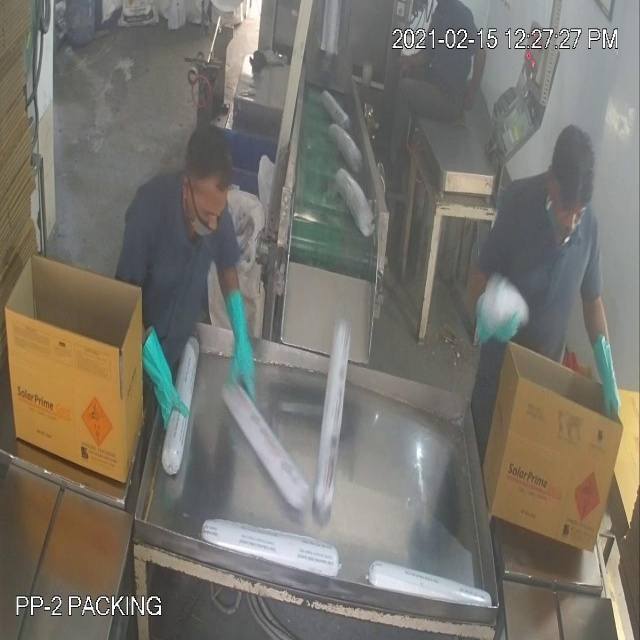Guantes: (215, 279, 266, 412), (136, 319, 192, 436), (589, 328, 636, 435)
Sin_guantes: (453, 31, 489, 121), (392, 43, 433, 84)
